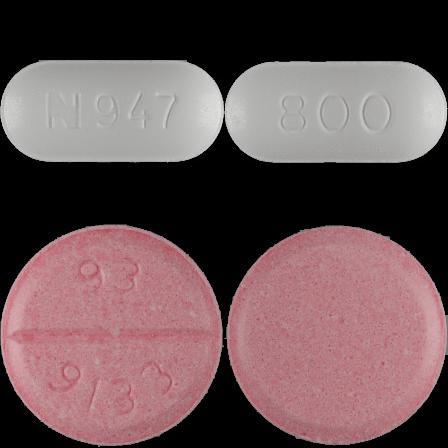0093-8947: (0, 0, 224, 224)
